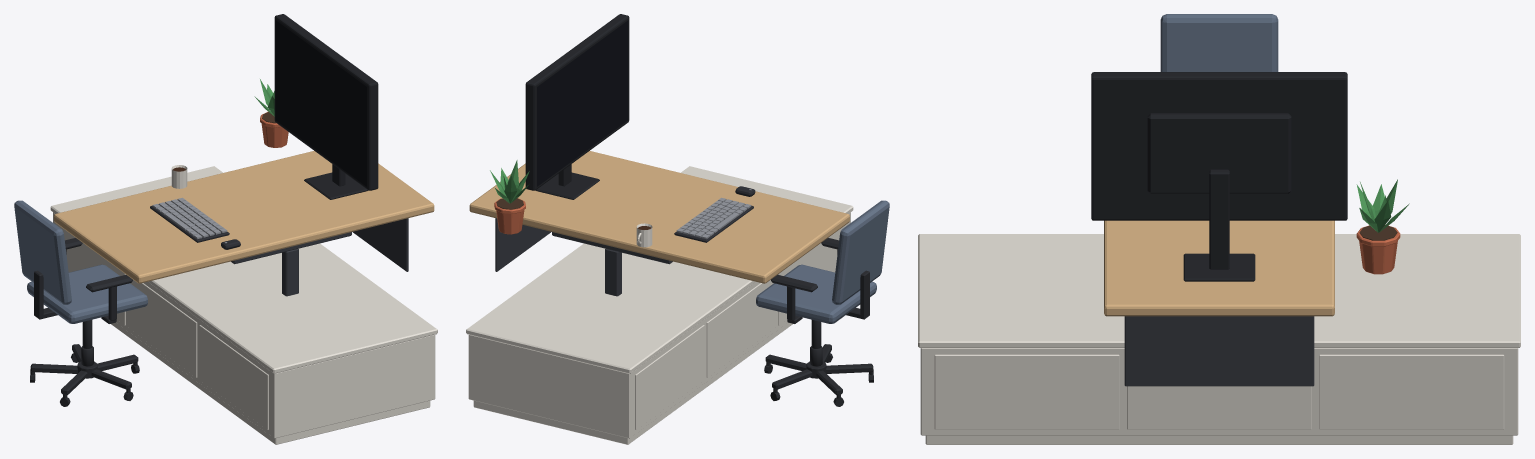
File: office.glb
3 renders of one model, left to right at view 1: azimuth 30°, elevation 25°; view 2: azimuth 150°, elevation 25°; view 3: azimuth 270°, elevation 25°, orthographic. The views are drawn at different scales.
Visible parts, largest first — view 1: Shelf, Desk, Chair, Screen, Monitor, Keyboard, Plant; view 2: Shelf, Desk, Chair, Screen, Monitor, Keyboard, Plant; view 3: Shelf, Monitor, Desk, Chair, Plant.
Boxes of the visible parts, bbox=[...] form: Shelf: bbox=[50, 166, 437, 444]; Desk: bbox=[54, 151, 434, 296]; Chair: bbox=[14, 200, 147, 406]; Screen: bbox=[275, 20, 366, 186]; Monitor: bbox=[274, 14, 378, 199]; Keyboard: bbox=[150, 197, 229, 242]; Plant: bbox=[254, 79, 288, 147]; Shelf: bbox=[466, 166, 853, 444]; Desk: bbox=[469, 151, 849, 296]; Chair: bbox=[756, 200, 889, 406]; Screen: bbox=[537, 20, 628, 186]; Monitor: bbox=[525, 14, 629, 199]; Keyboard: bbox=[674, 197, 753, 242]; Plant: bbox=[490, 160, 529, 234]; Shelf: bbox=[918, 234, 1520, 444]; Monitor: bbox=[1091, 72, 1347, 281]; Desk: bbox=[1104, 220, 1334, 386]; Chair: bbox=[1160, 14, 1278, 71]; Plant: bbox=[1356, 179, 1409, 274].
Size of the model in its own units: 2.17 by 1.61 by 2.35.
